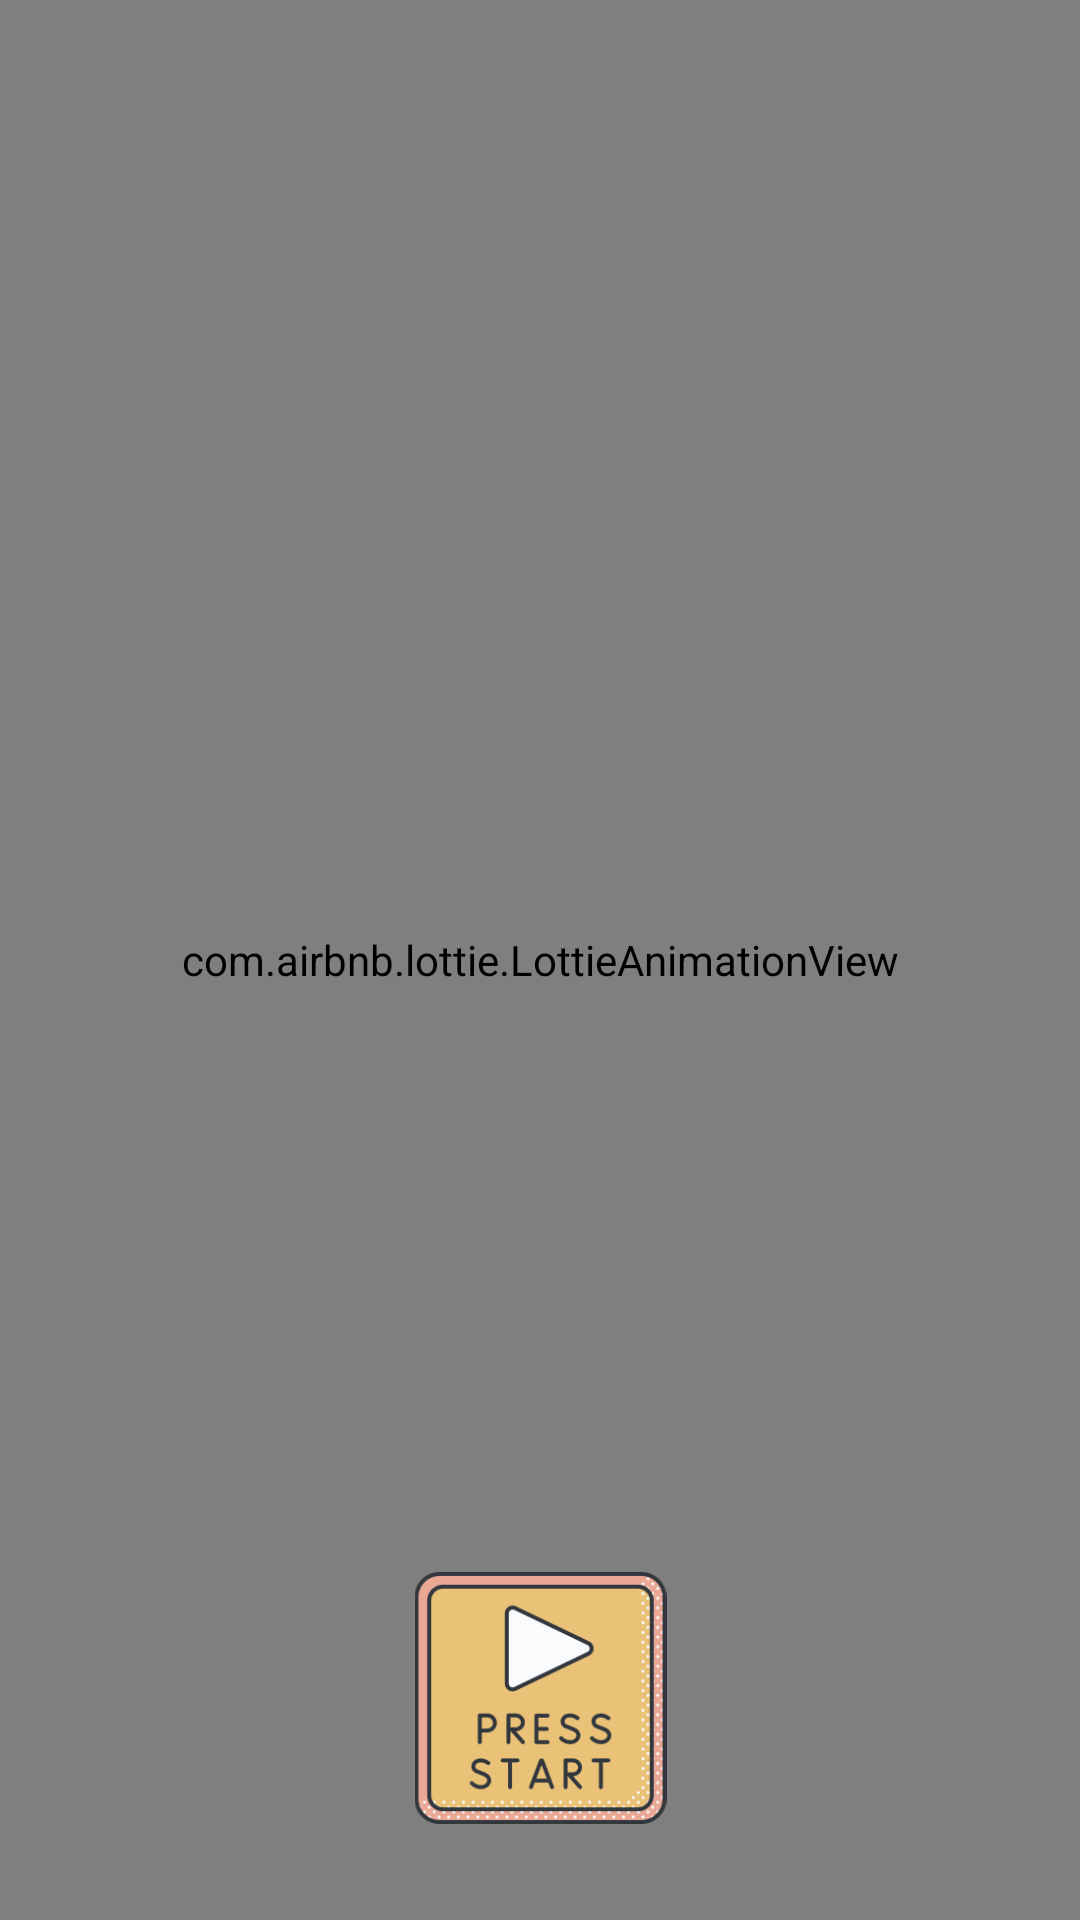

Icons on this 1080 x 1920 Android screen, each with the point to tap as (x=x, y=y):
play: (x=541, y=1698)
